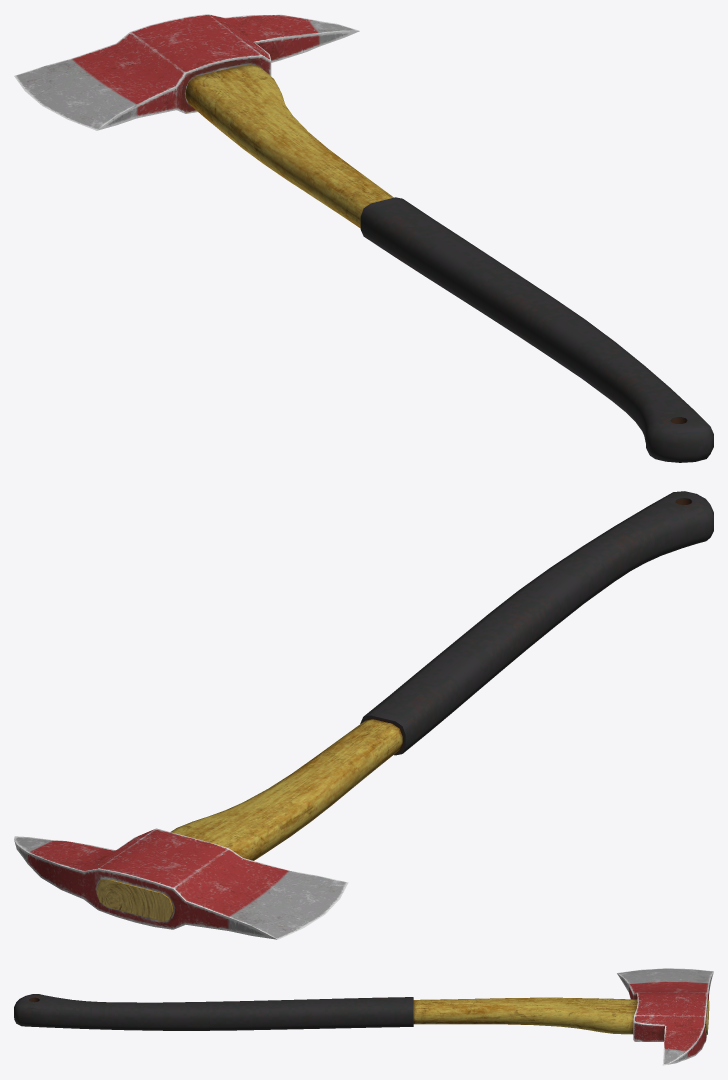
Rendered from fireaxe.dae.
3 views of the same model, one above another, from view 1: azimuth 30°, elevation 25°; view 2: azimuth 150°, elevation 25°; view 3: azimuth 270°, elevation 25° (orthographic). The views are drawn at different scales.
Visible parts, largest first — view 1: hand_2_low, blade_low, hand_1_low; view 2: hand_2_low, blade_low, hand_1_low; view 3: hand_2_low, hand_1_low, blade_low.
Part boxes in pixels (x1,y1,x2,y2): hand_2_low: (360, 197, 713, 462); blade_low: (14, 14, 359, 130); hand_1_low: (185, 64, 393, 228); hand_2_low: (360, 491, 713, 755); blade_low: (14, 828, 348, 939); hand_1_low: (96, 719, 402, 921); hand_2_low: (14, 994, 413, 1030); hand_1_low: (413, 997, 709, 1034); blade_low: (617, 968, 713, 1065).
Size of the model in its own units: 1.59 by 4.84 by 0.2216.
